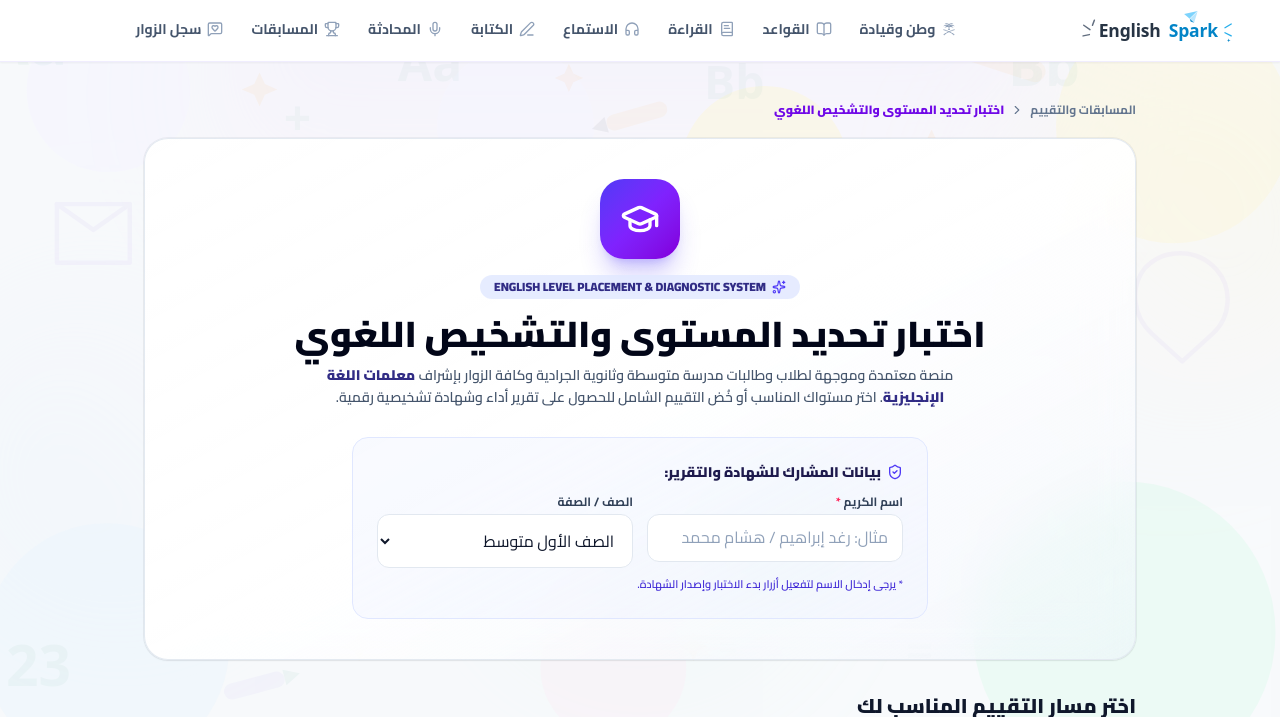
Test case: PlacementTestPage & Question Bank › starts test and proceeds through questions smoothly
In the field labelled "اسم الكريم *": [775, 538] box [647,514,903,562], type "رغد محمد"
(page scrolled)
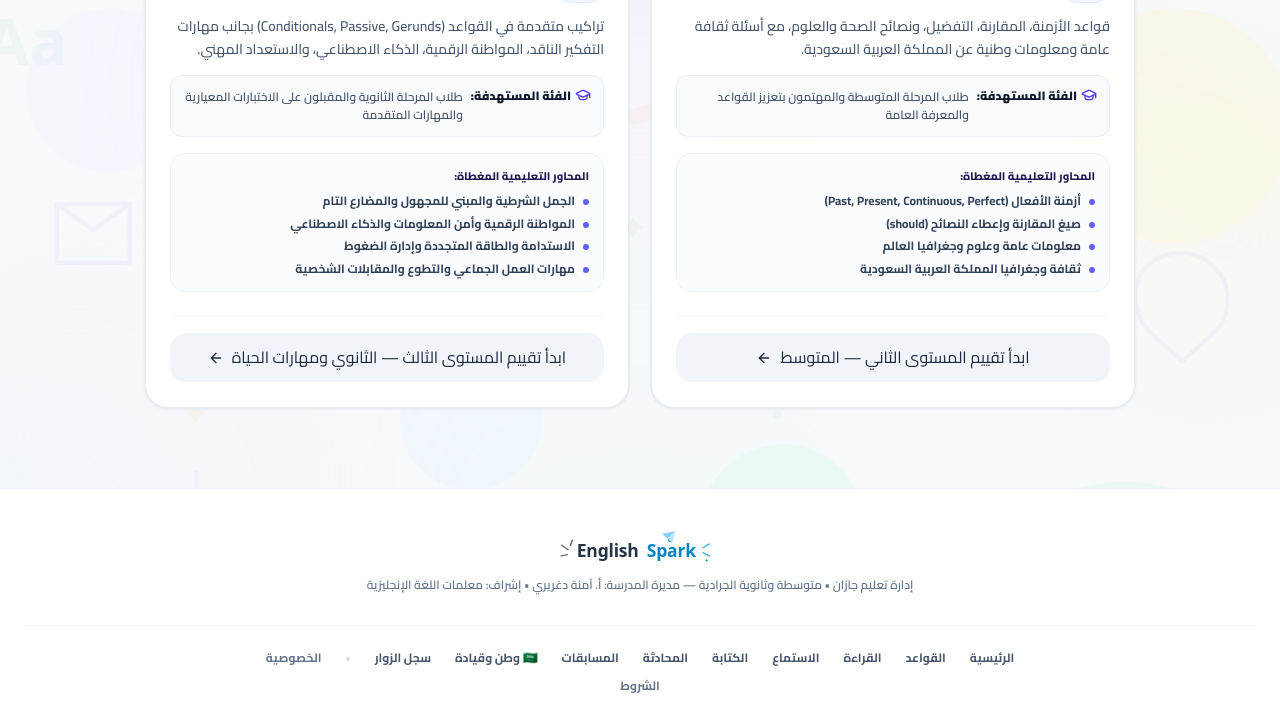
Click the button "ابدأ تقييم المستوى الثاني — المتوسط": [893, 358] box [676,333,1110,382]
(page scrolled)
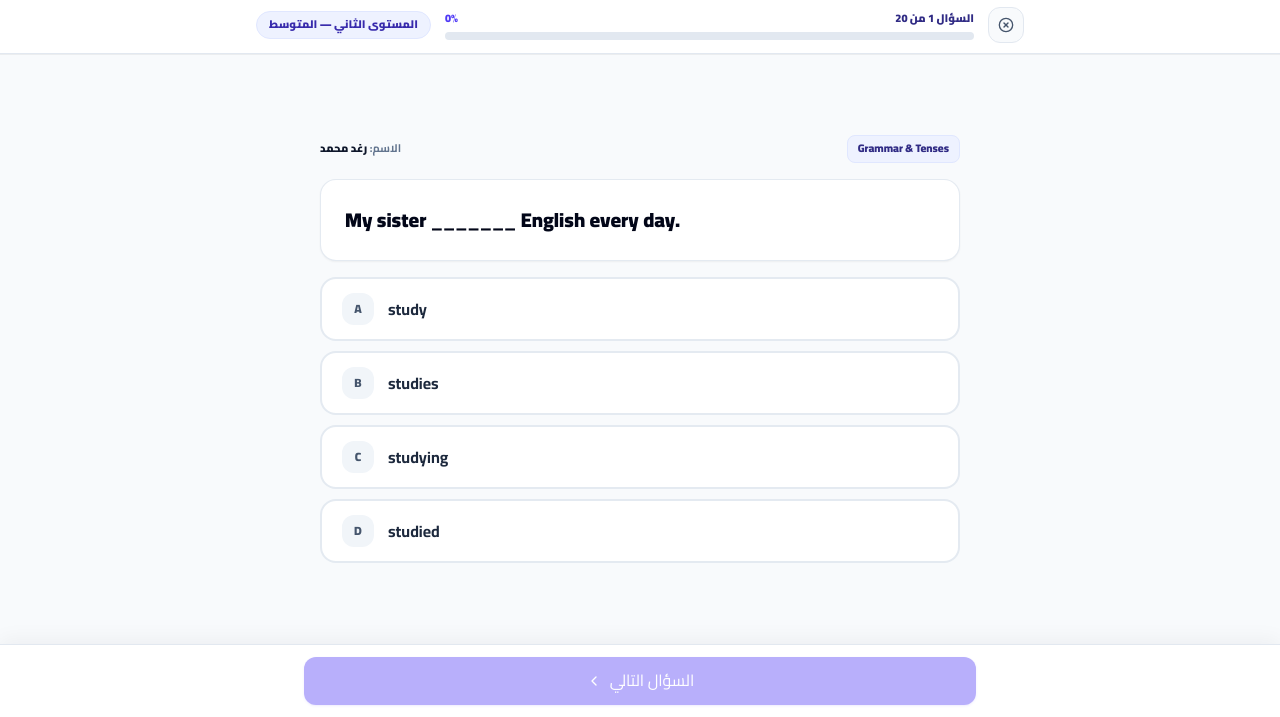
Now the text "السؤال 1 من 20" is shown, box [895,10,974,28]
Now the text "My sister _______ English every day." is shown, box [345,200,680,238]
# Select correct option B (studies)
Click the button "B studies": [358, 383] box [320,351,960,415]
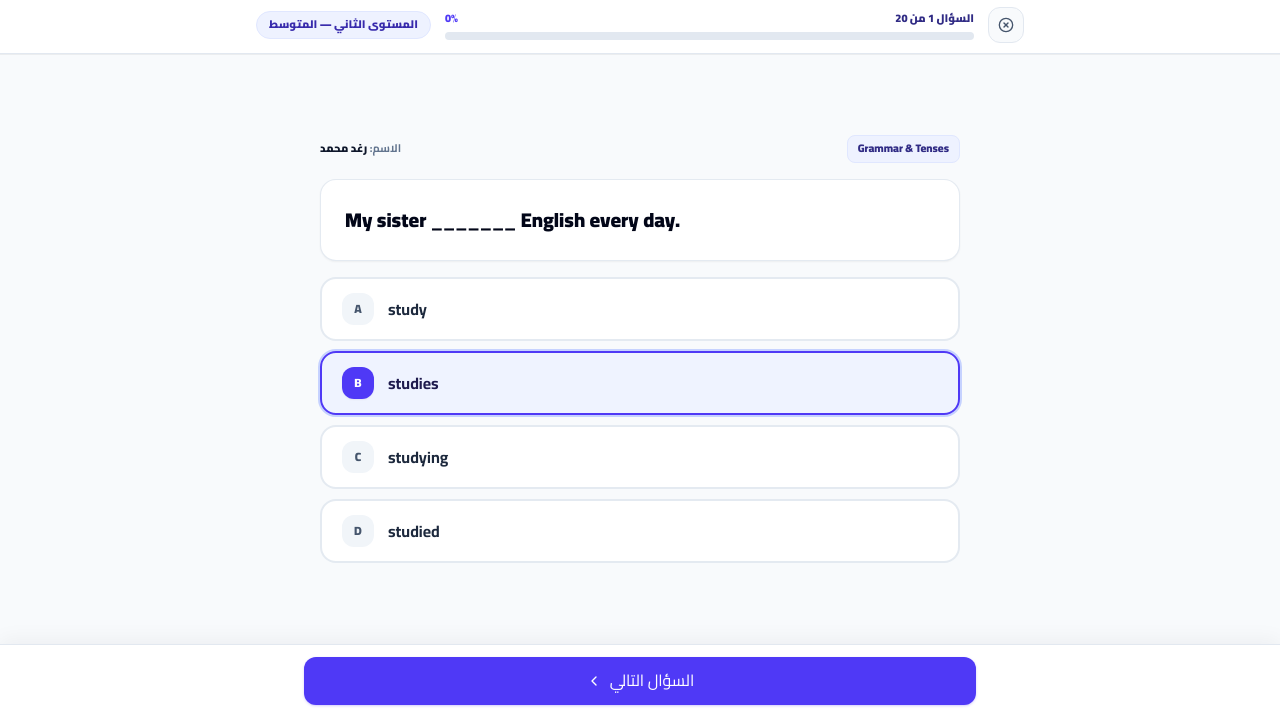
# Click next
Click the button with aria-label "تأكيد والانتقال للسؤال التالي": [640, 681] box [304,657,976,705]
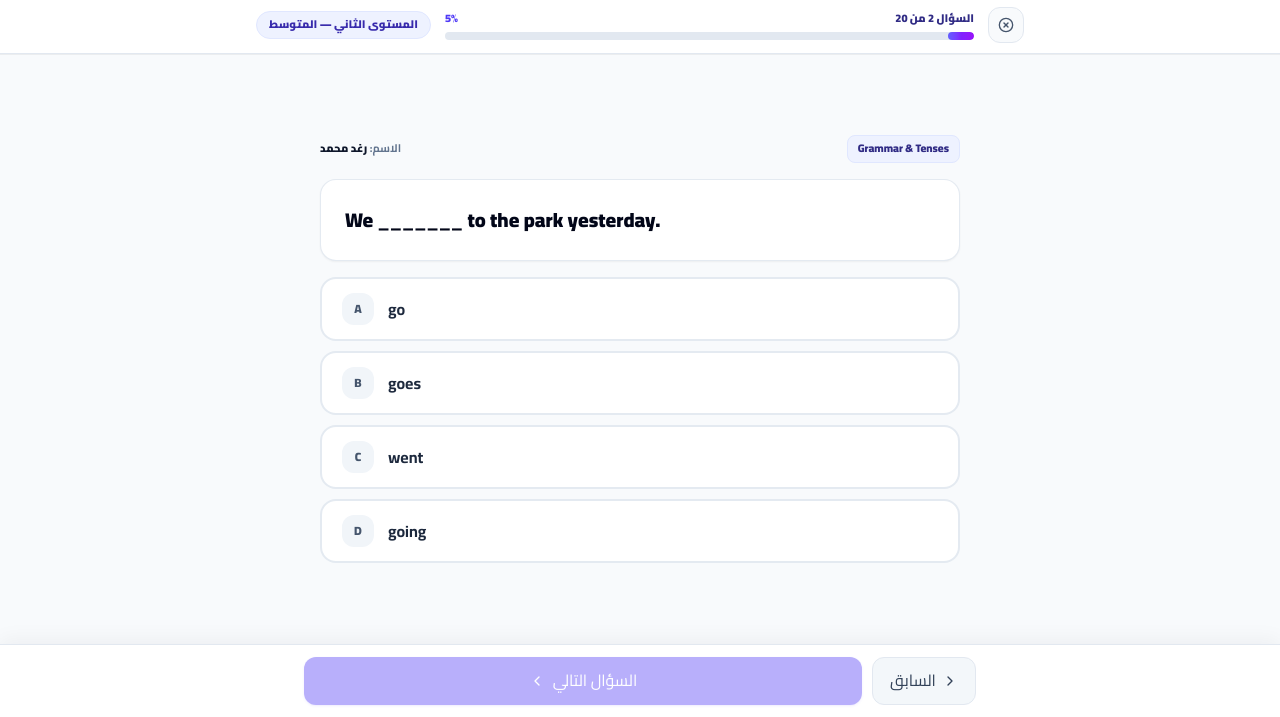
Now the text "السؤال 2 من 20" is shown, box [895,10,974,28]
Now the text "We _______ to the park yesterday." is shown, box [345,200,660,238]
